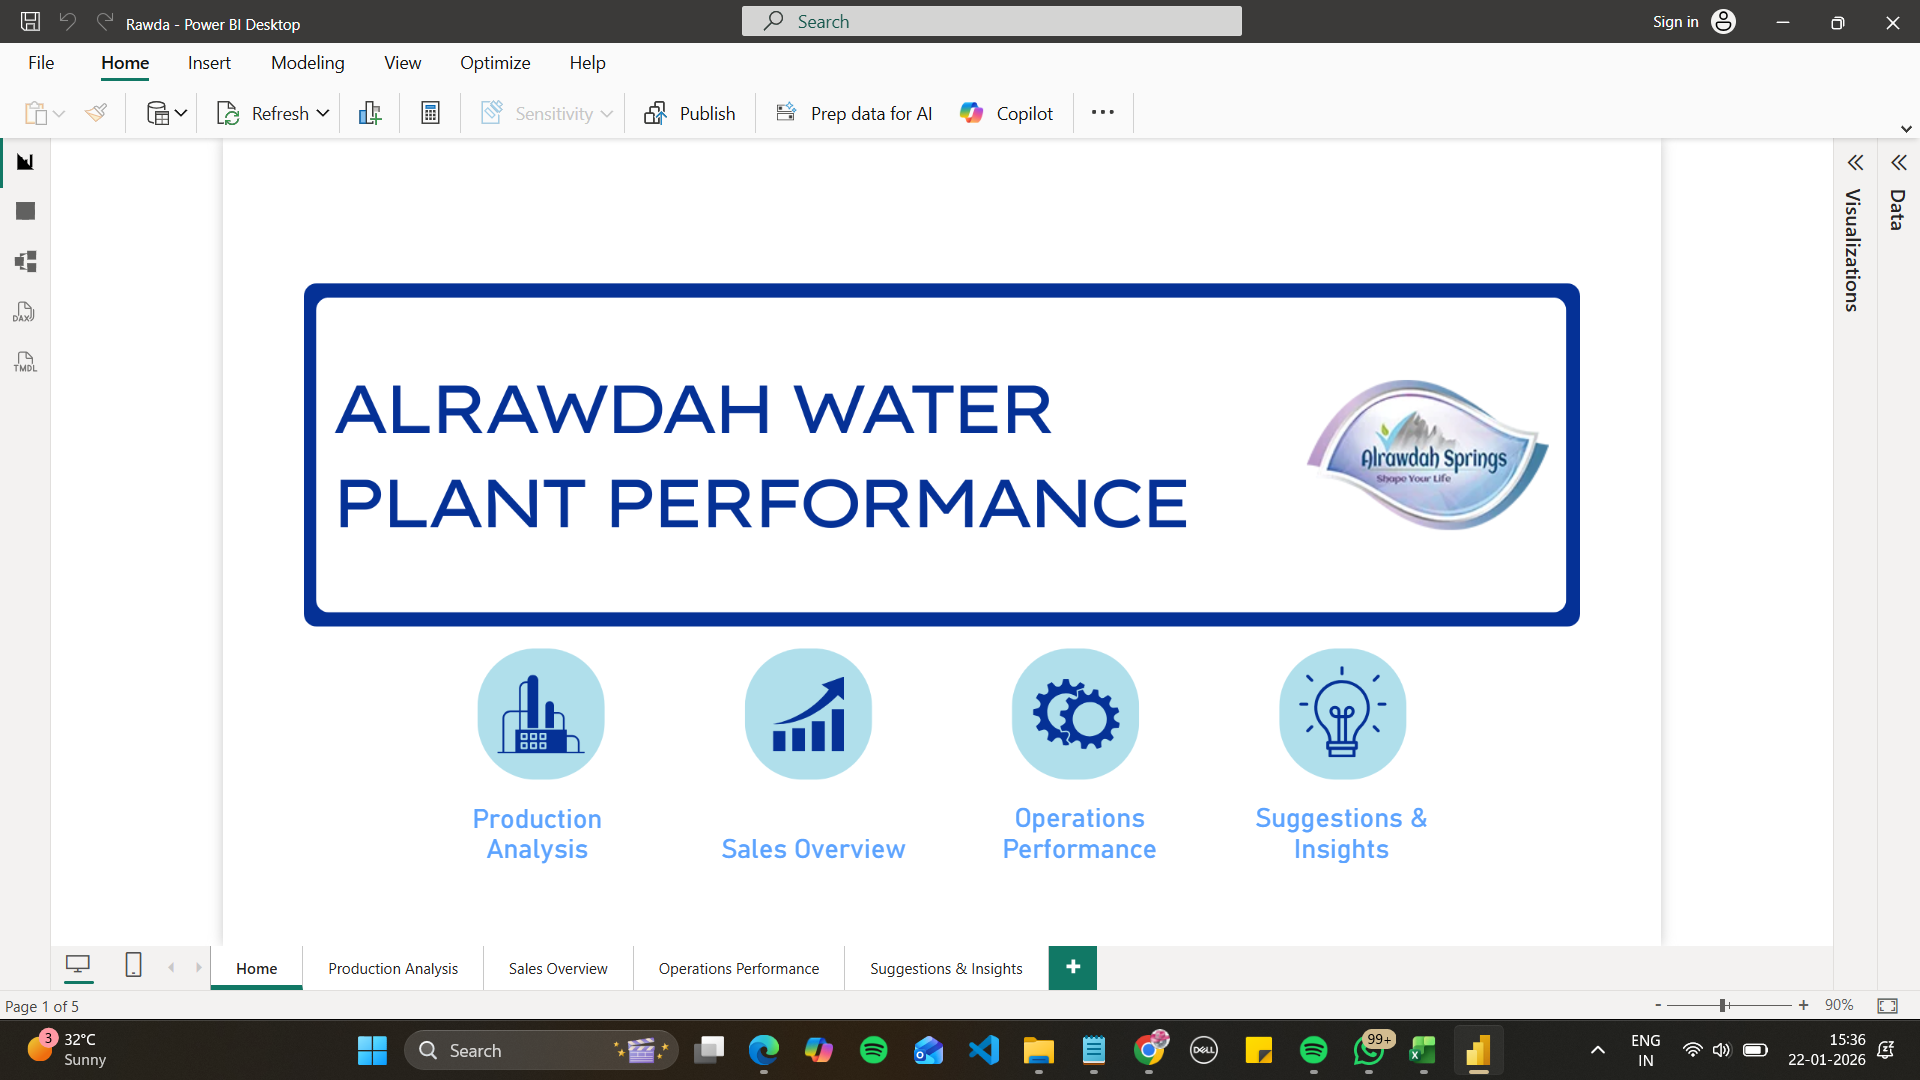

Layout of this report page (visuals, bound fields, positions):
{"tool":"powerbi","page":{"name":"Home","canvas":[1280,720],"ordinal":0},"visuals":[{"type":"actionButton","box":[187,457.5,185.9,192.6],"z":0},{"type":"actionButton","box":[425.2,449.7,201.5,200.4],"z":1000},{"type":"actionButton","box":[664.6,449.7,197,200.4],"z":2000},{"type":"actionButton","box":[895,449.7,202.6,200.4],"z":3000}]}

Visuals, with their boxes on the page's 1280x720 design canvas (x1, y1, x2, y2). These are canvas units, not pixel positions in the 1920x1080 screenshot, which may show the page scaled, cropped or inside an application window:
actionButton: (187, 458, 373, 650)
actionButton: (425, 450, 627, 650)
actionButton: (665, 450, 862, 650)
actionButton: (895, 450, 1098, 650)
